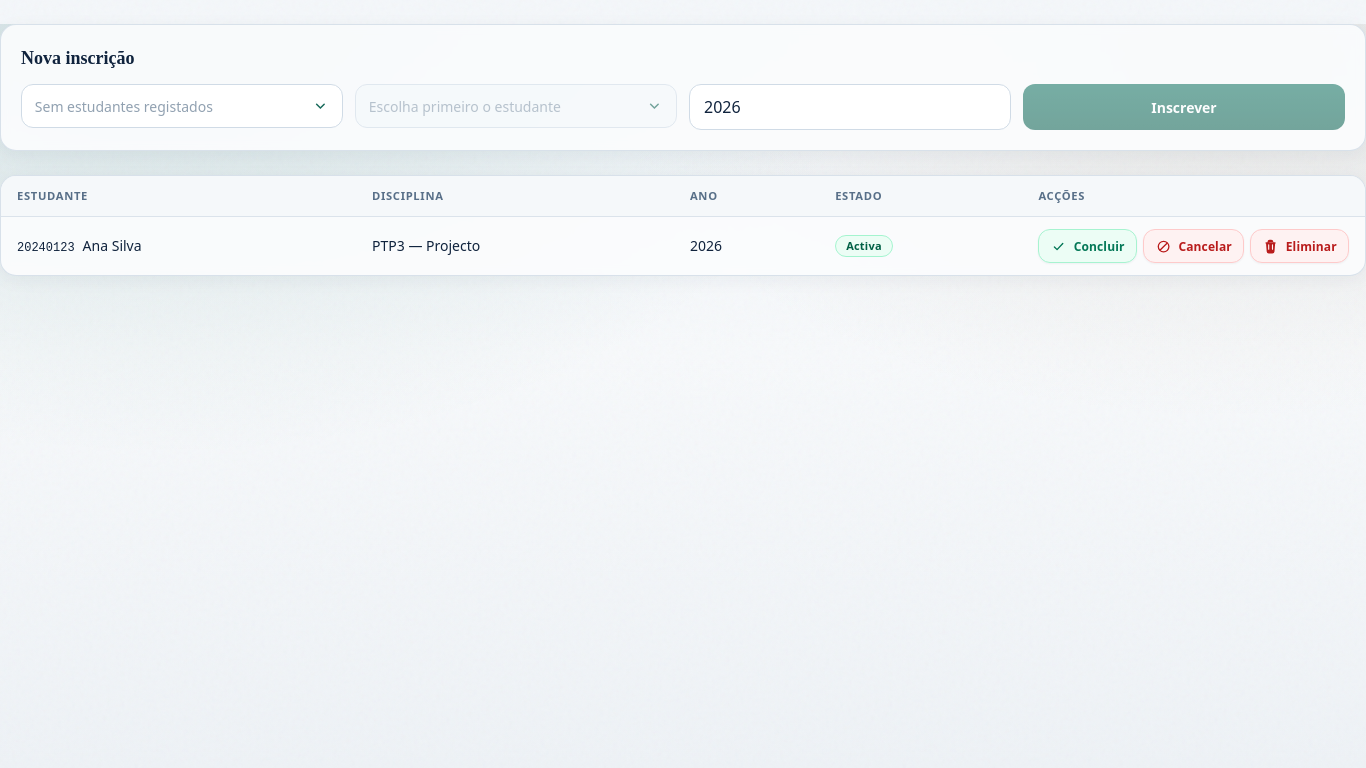
Scenario: EnrolmentsPage › cancelar a confirmação não altera a inscrição
Click the button "Concluir" at [1088, 246], box [1038,229,1137,263]
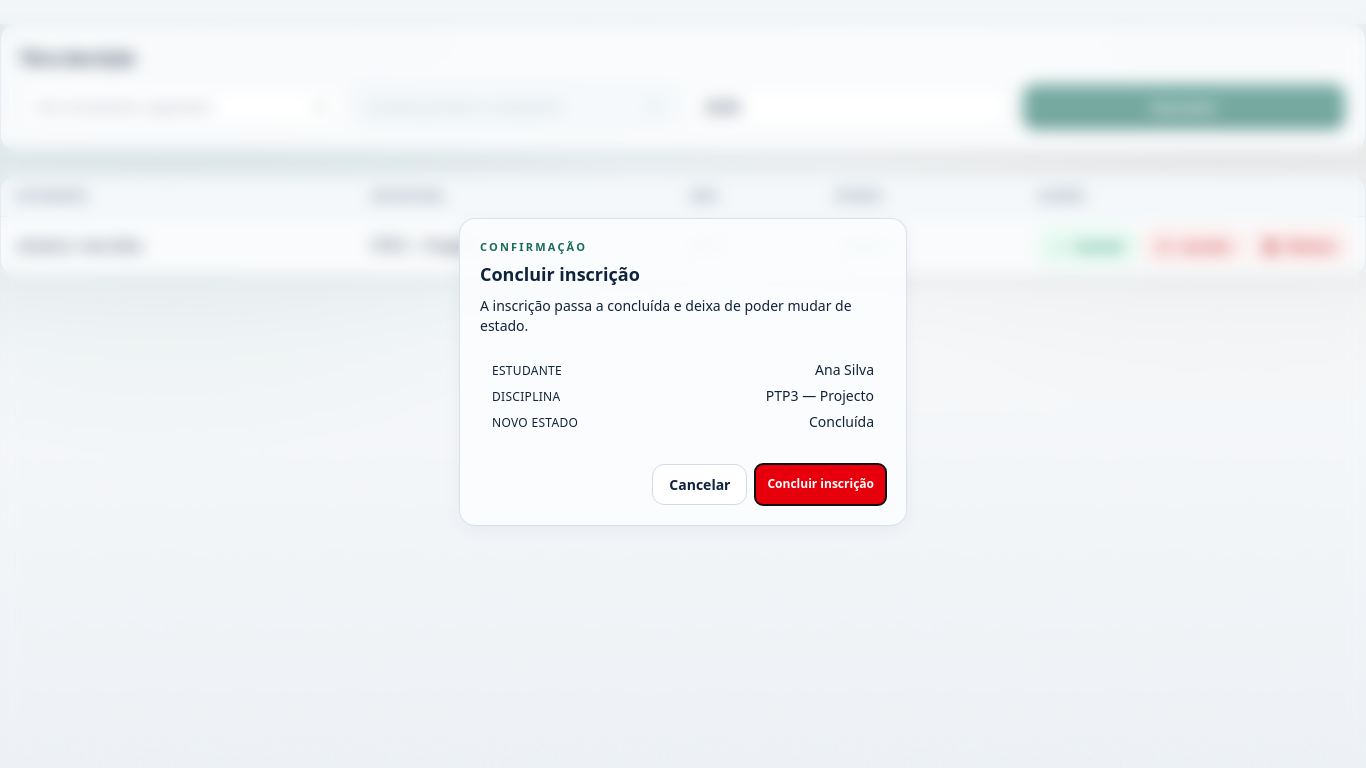
Click the button "Cancelar" at [700, 484], box [652,464,747,505]
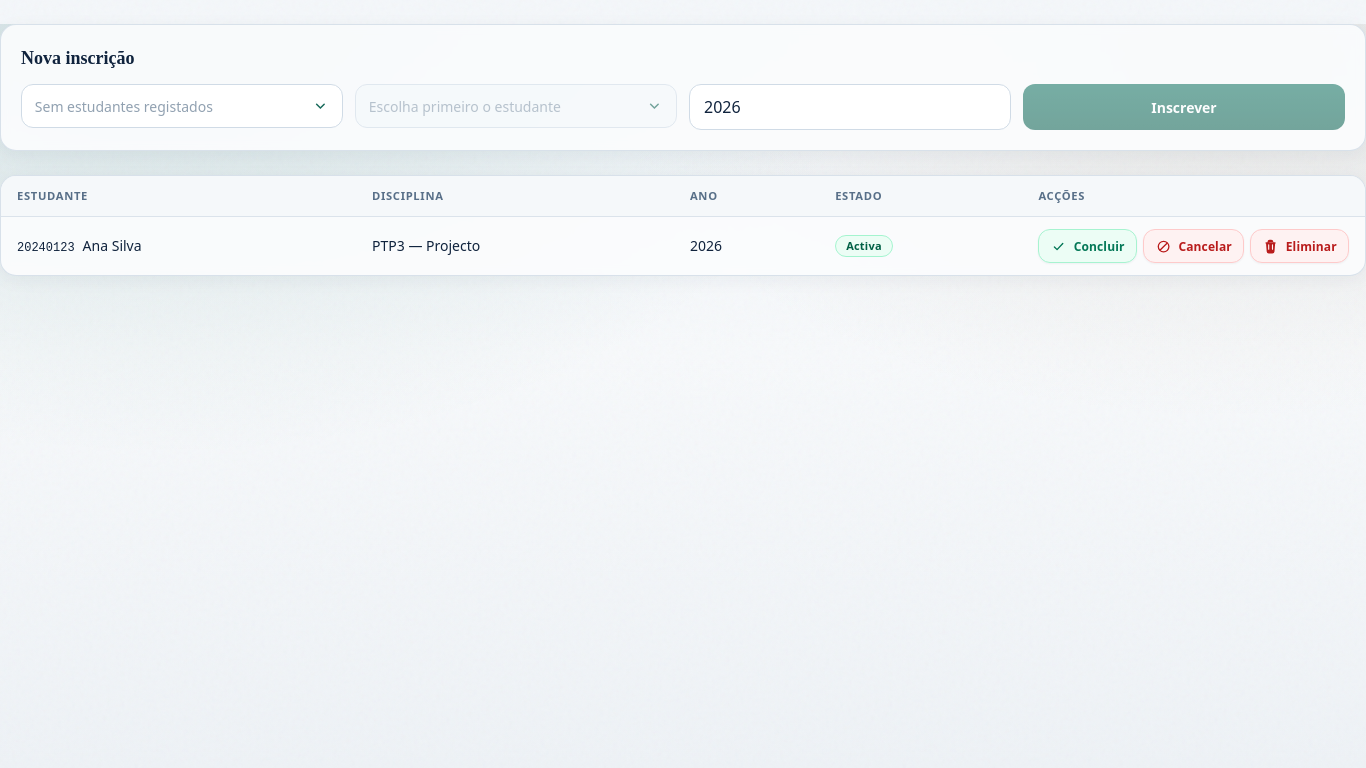
Result: the dialog is gone
